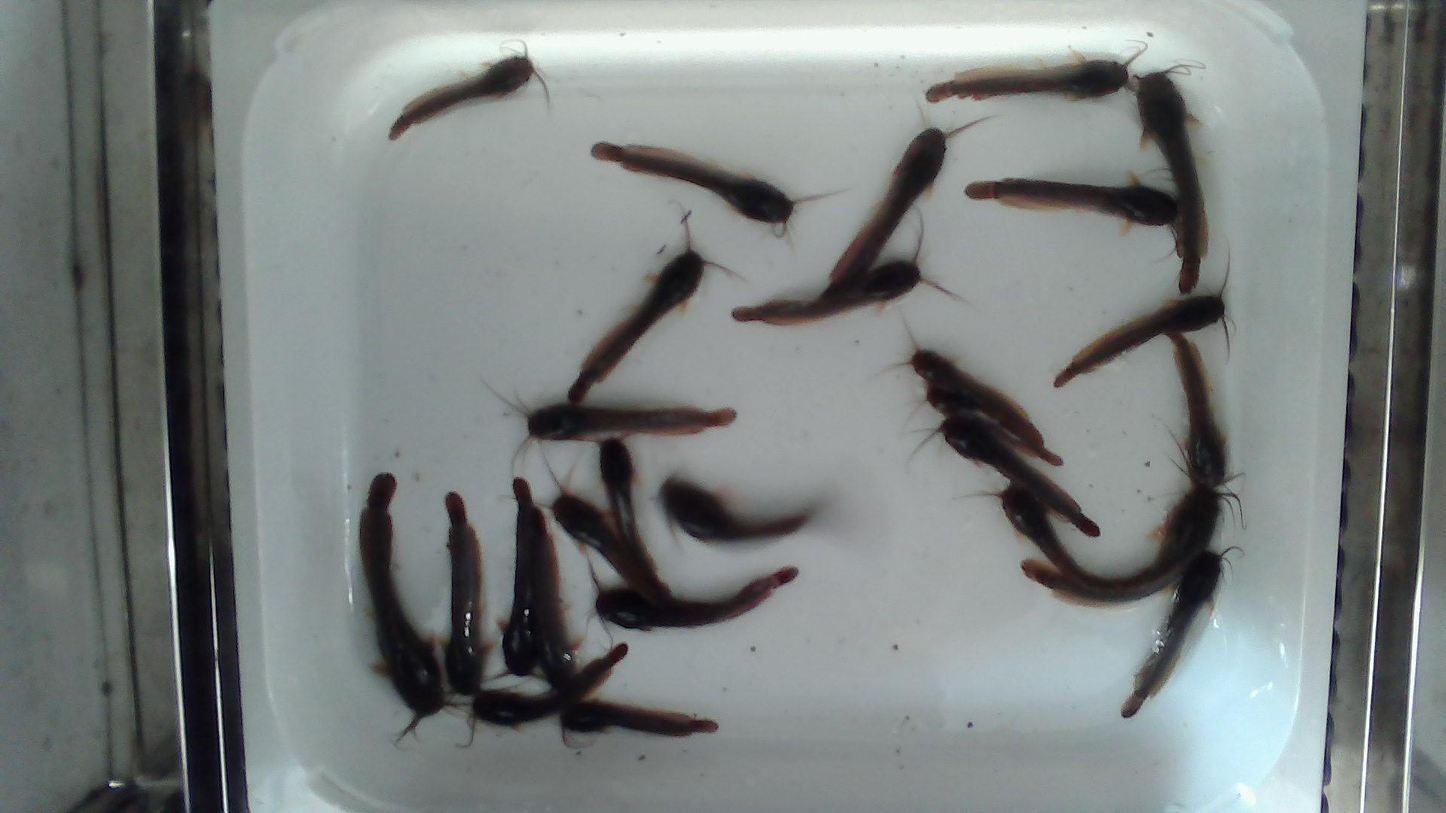lele: (1021, 430, 1243, 609), (818, 110, 996, 298), (566, 212, 734, 404), (730, 205, 966, 327), (359, 472, 453, 735), (1054, 251, 1230, 386), (906, 417, 1100, 539), (591, 142, 834, 236), (533, 453, 675, 602), (1118, 547, 1241, 719), (488, 385, 735, 467), (455, 641, 629, 747), (955, 486, 1132, 589), (584, 551, 798, 634), (1133, 62, 1207, 292), (389, 39, 550, 139), (885, 328, 1038, 427), (966, 171, 1177, 242), (479, 477, 548, 683), (907, 384, 1065, 467), (925, 43, 1146, 102), (591, 436, 672, 595), (529, 508, 585, 693), (660, 478, 813, 540), (1168, 332, 1228, 489), (444, 492, 486, 694), (560, 699, 718, 749)
